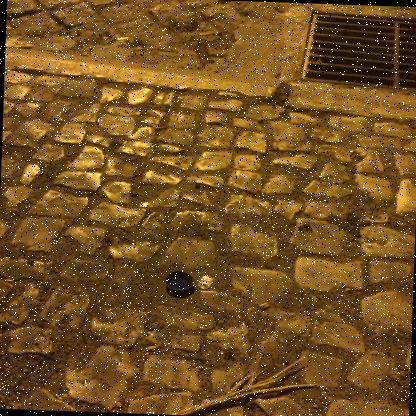Cigarette: (198, 33, 211, 36)
Plastic bottle cap: (165, 271, 193, 291)
Pop tab: (198, 275, 215, 289)
